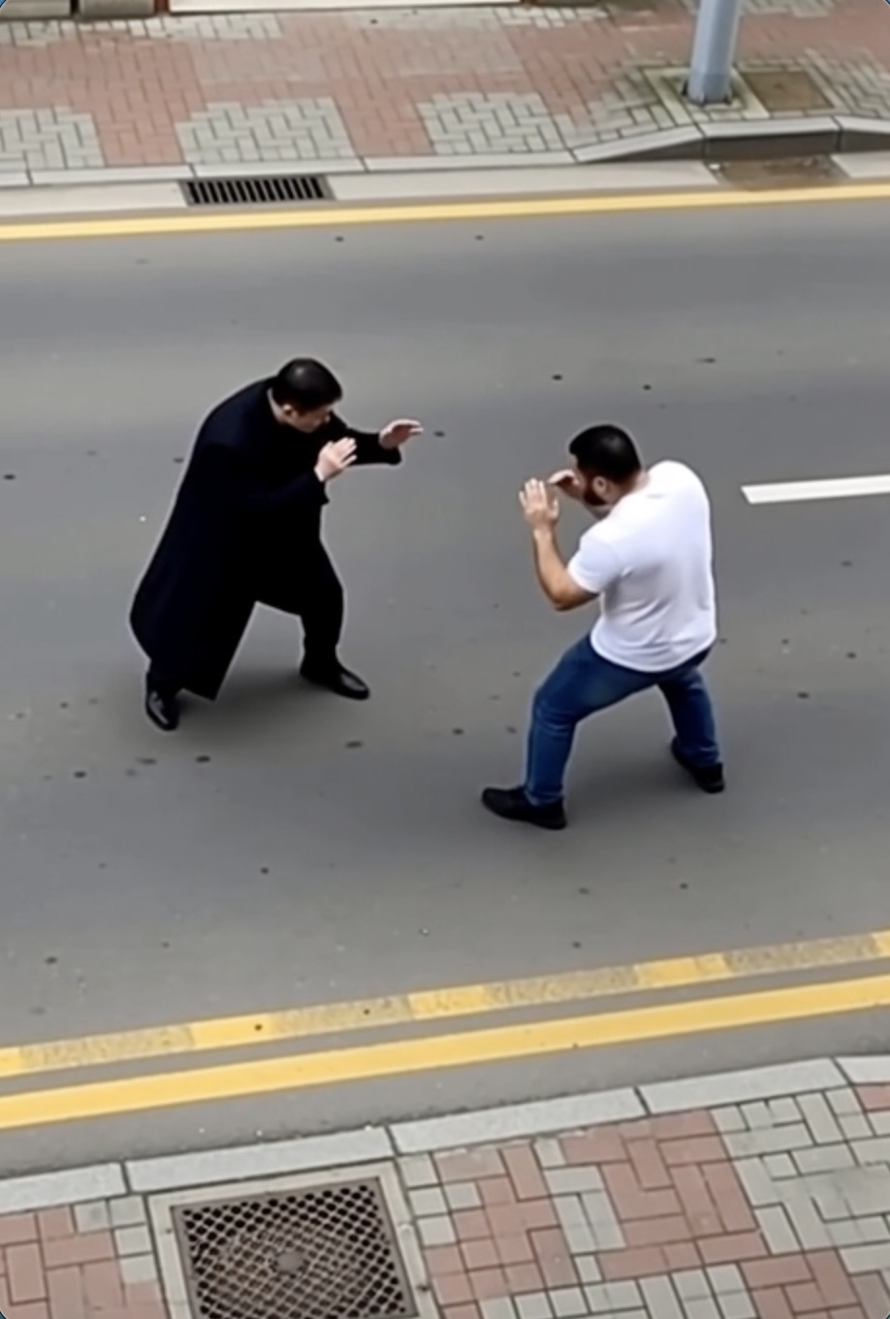Assault: (479, 425, 727, 831)
Fighting: (128, 356, 425, 735)
